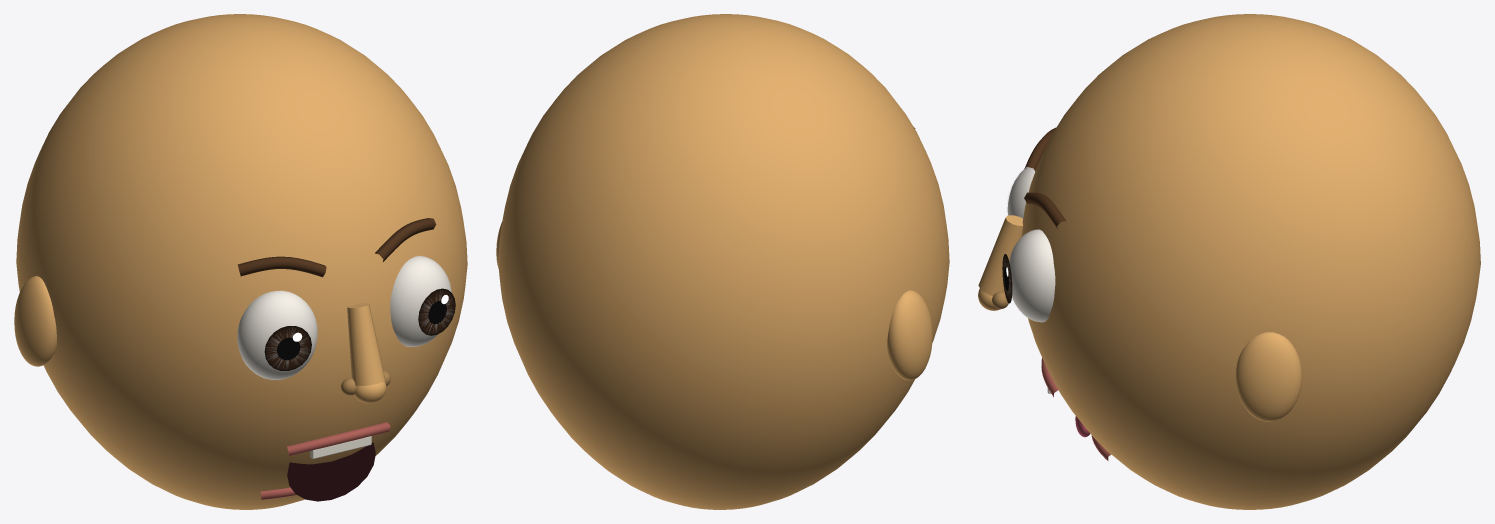
File: 06-cri.glb
The picture shows the model from 3 angles, left to right: view 1: azimuth 30°, elevation 25°; view 2: azimuth 150°, elevation 25°; view 3: azimuth 270°, elevation 25°; orthographic projection.
Bounding box in the file's own units: 0.3087 × 0.321 × 0.3166.
Materials: 12 (1 with a texture image).
